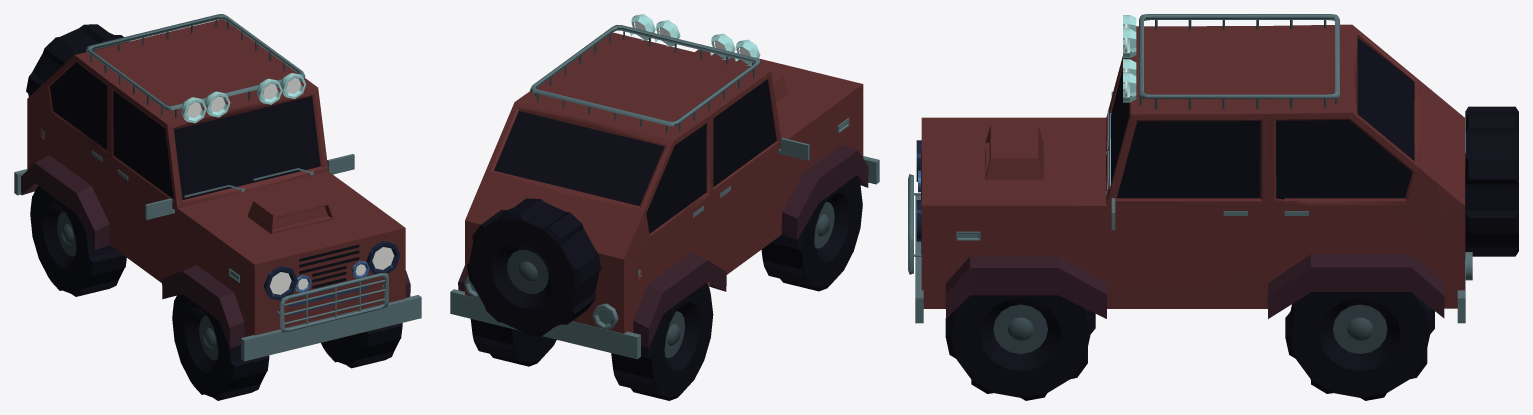
File: car4.fbx
The picture shows the model from 3 angles, left to right: view 1: azimuth 30°, elevation 25°; view 2: azimuth 150°, elevation 25°; view 3: azimuth 270°, elevation 25°; orthographic projection. The views are drawn at different scales.
Parts seen in each view (by area): view 1: Car 4; view 2: Car 4; view 3: Car 4.
Part boxes in pixels (box(x1,y1,x2,y2)): Car 4: box(14, 14, 421, 400); Car 4: box(450, 14, 879, 400); Car 4: box(908, 14, 1518, 400).
Bounding box in the file's own units: 104 × 123 × 221.
1 material, 1 textured.
